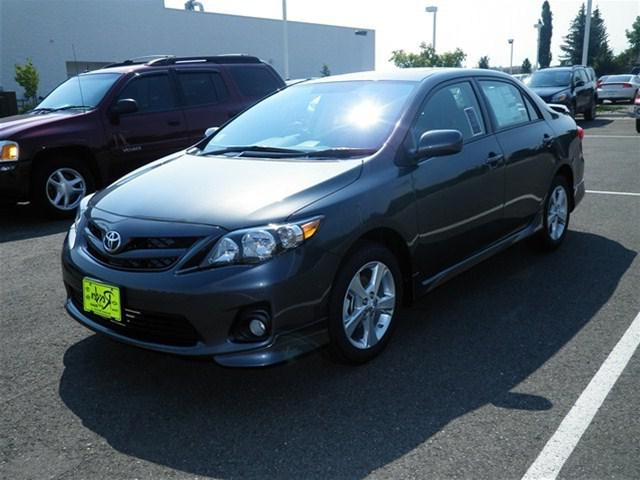Car: (43, 56, 597, 384), (2, 41, 300, 238), (519, 60, 608, 126), (588, 66, 640, 114)
